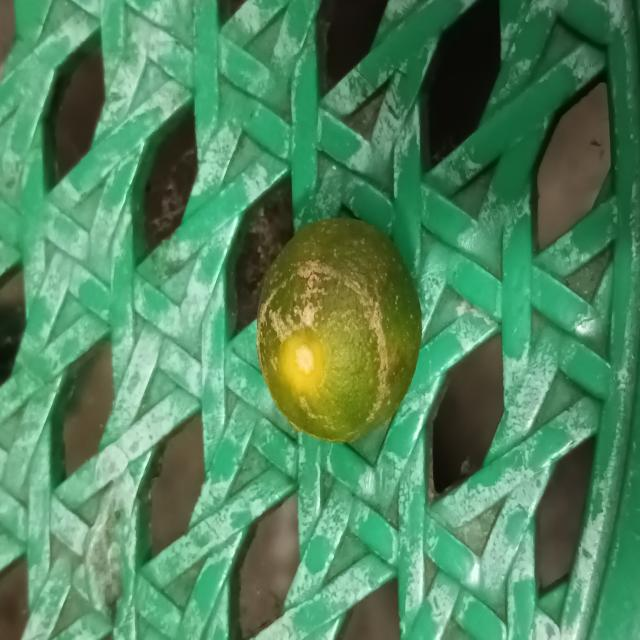thrips: (257, 211, 427, 438)
